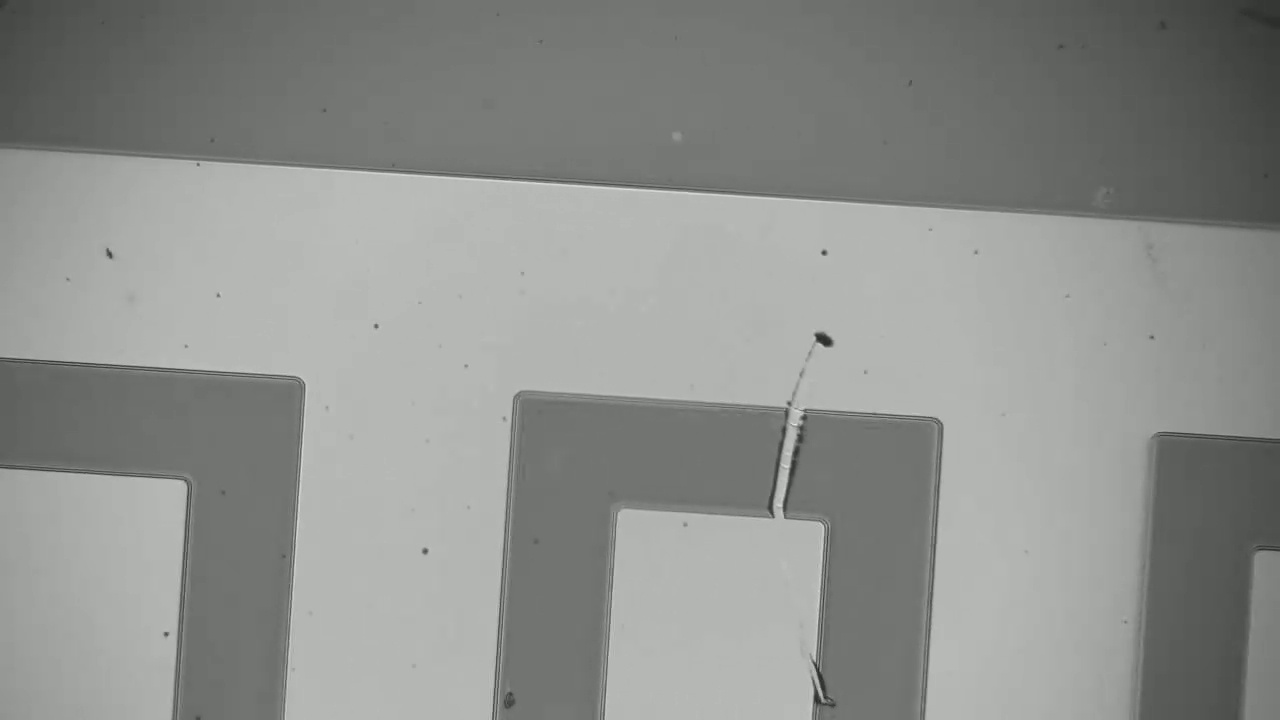Short_circuit: (744, 375, 814, 545)
